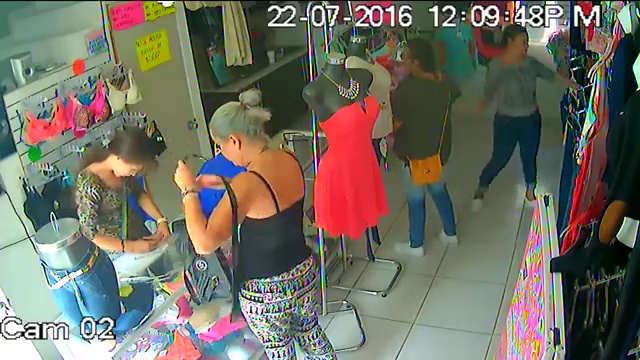face: (115, 157, 142, 179), (509, 34, 531, 56)
